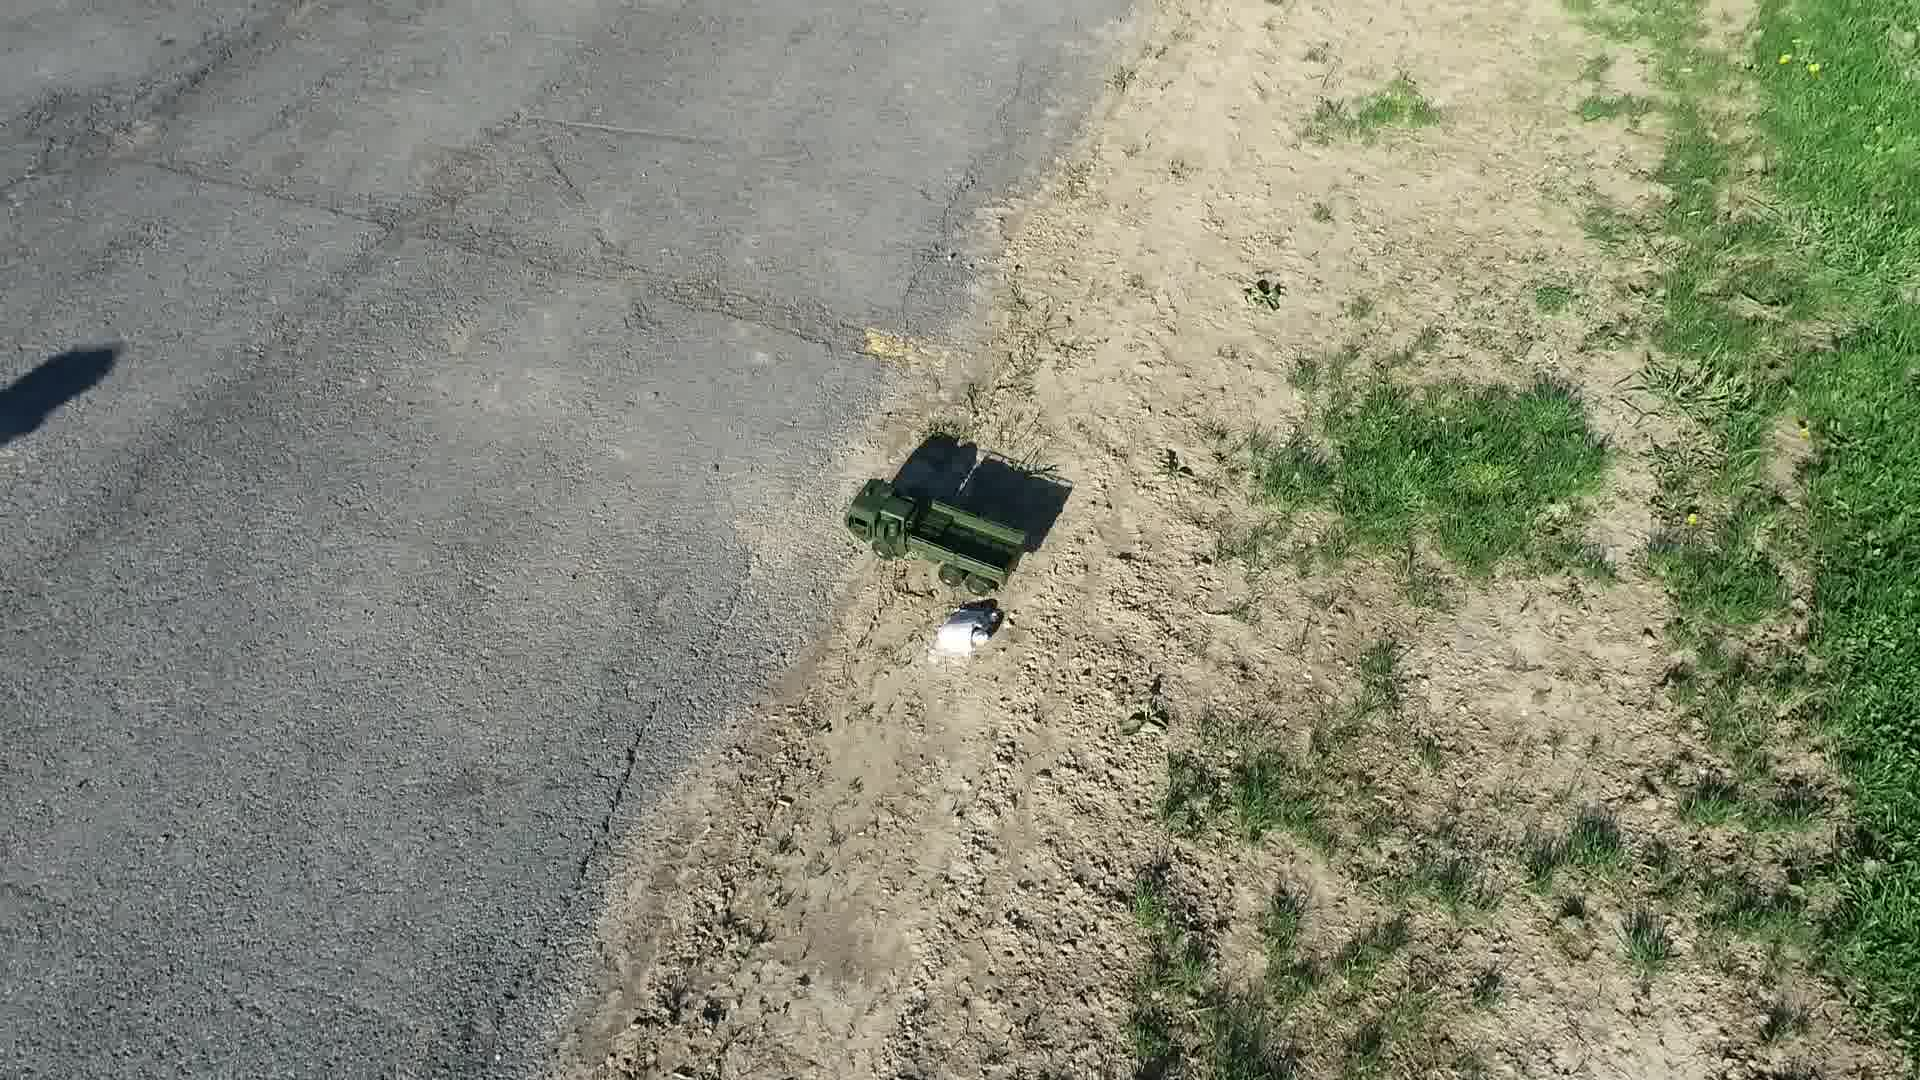transporter9: (840, 473, 1040, 607)
